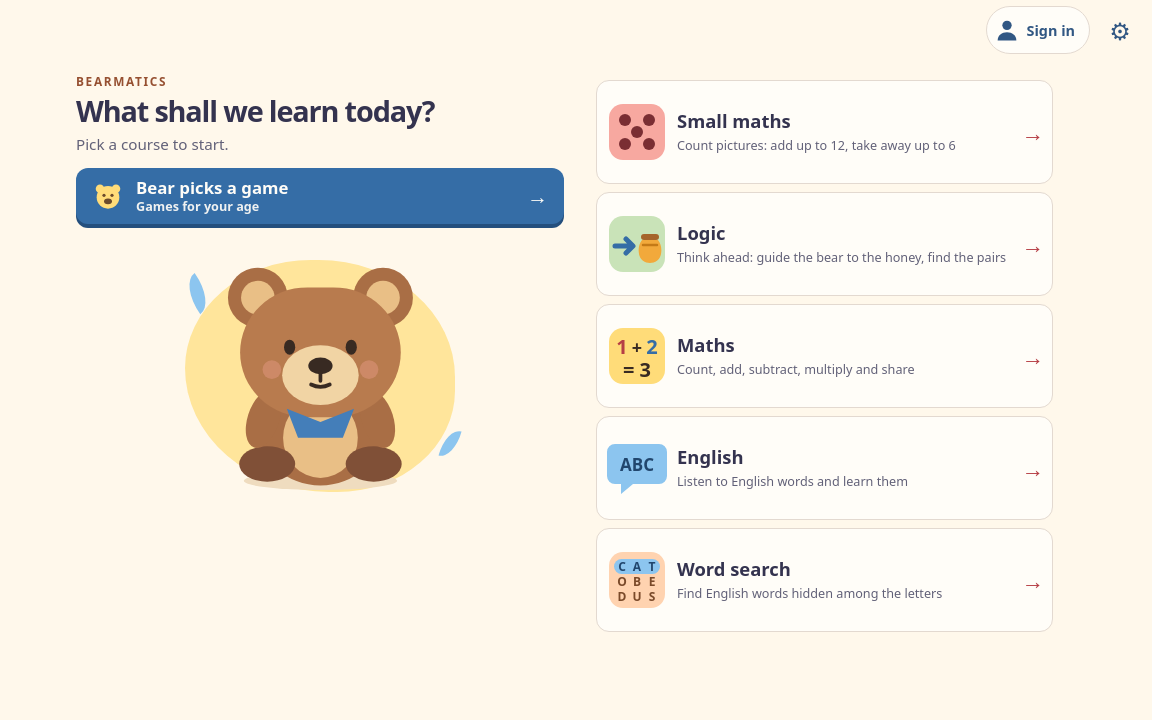
it: menu entry: Level 3 · Up to 12 with its detail
Click the button that starts with "Small maths" at coordinates (637, 132), box x1=596 y1=80 x2=1053 y2=184
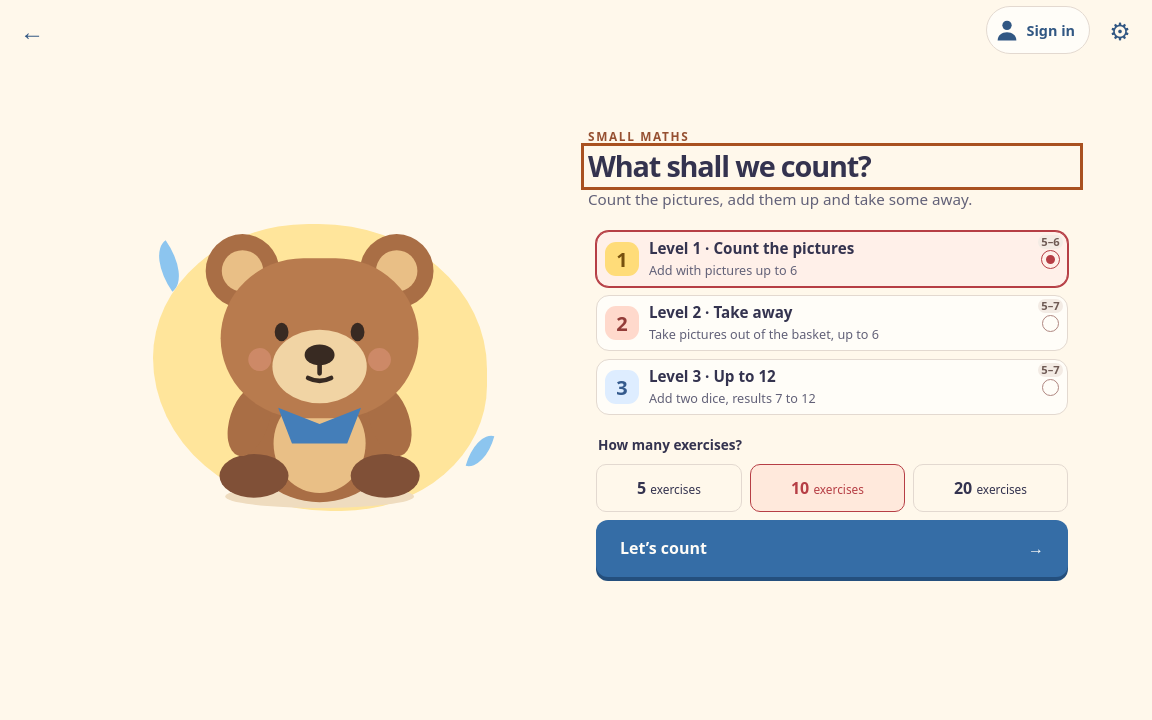
Now the text "Level 3 · Up to 12" is shown, box x1=649 y1=366 x2=776 y2=386
Now the text "Add two dice, results 7 to 12" is shown, box x1=649 y1=389 x2=816 y2=407
